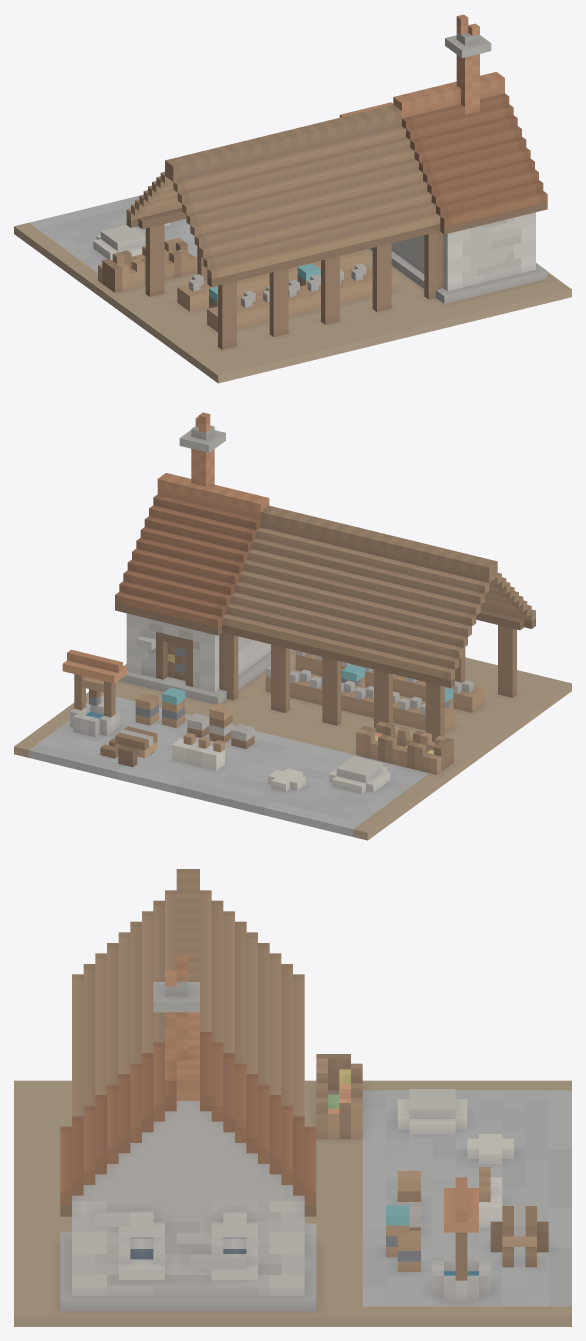
The model's file is oyster_house.glb.
3 renders of one model, top to bottom at view 1: azimuth 30°, elevation 25°; view 2: azimuth 150°, elevation 25°; view 3: azimuth 270°, elevation 25°, orthographic. The views are drawn at different scales.
Visible parts, largest first — view 1: oyster_house; view 2: oyster_house; view 3: oyster_house.
Boxes of the visible parts, bbox=[...] form: oyster_house: bbox=[14, 14, 571, 383]; oyster_house: bbox=[14, 412, 571, 840]; oyster_house: bbox=[14, 869, 571, 1326].
Size of the model in its own units: 6 by 4 by 6.
